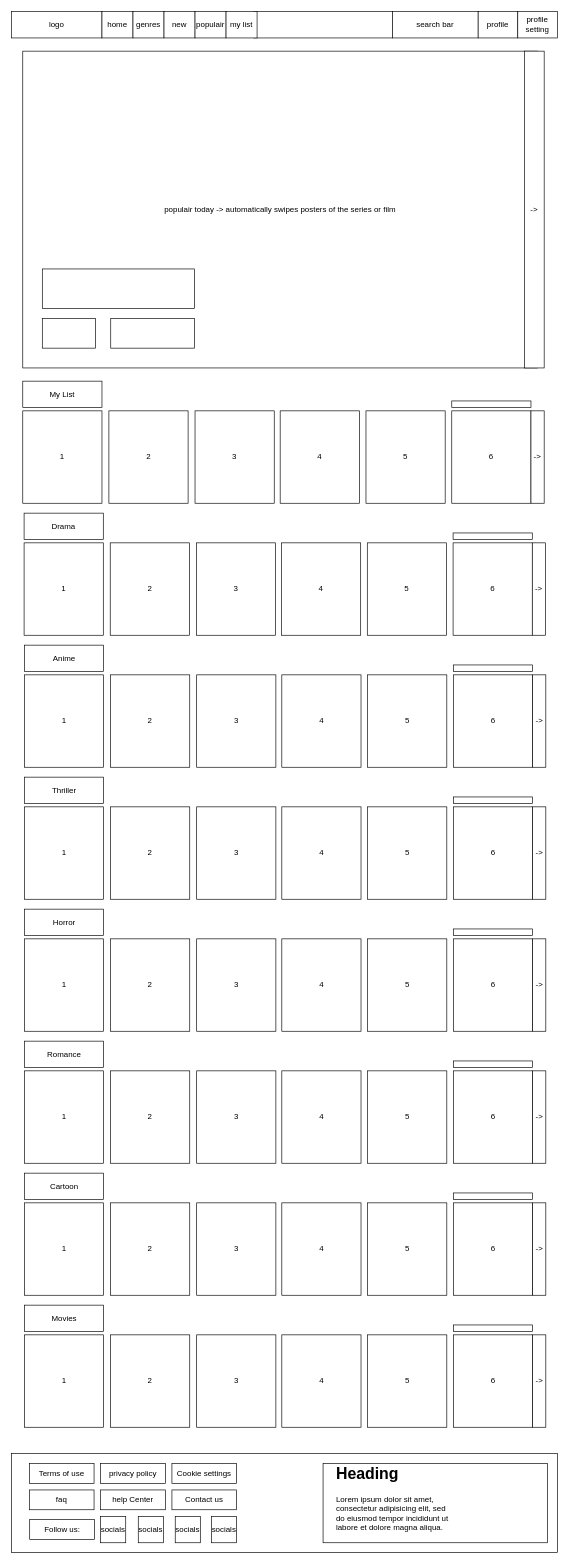
The diagram is 569 pixels wide and 1564 high, and some of its shapes have lost their labels. The centre of each missing label's shape, as x and y in pixels:
Info: (x=152, y=333)
name: (x=118, y=288)
Play: (x=68, y=333)
